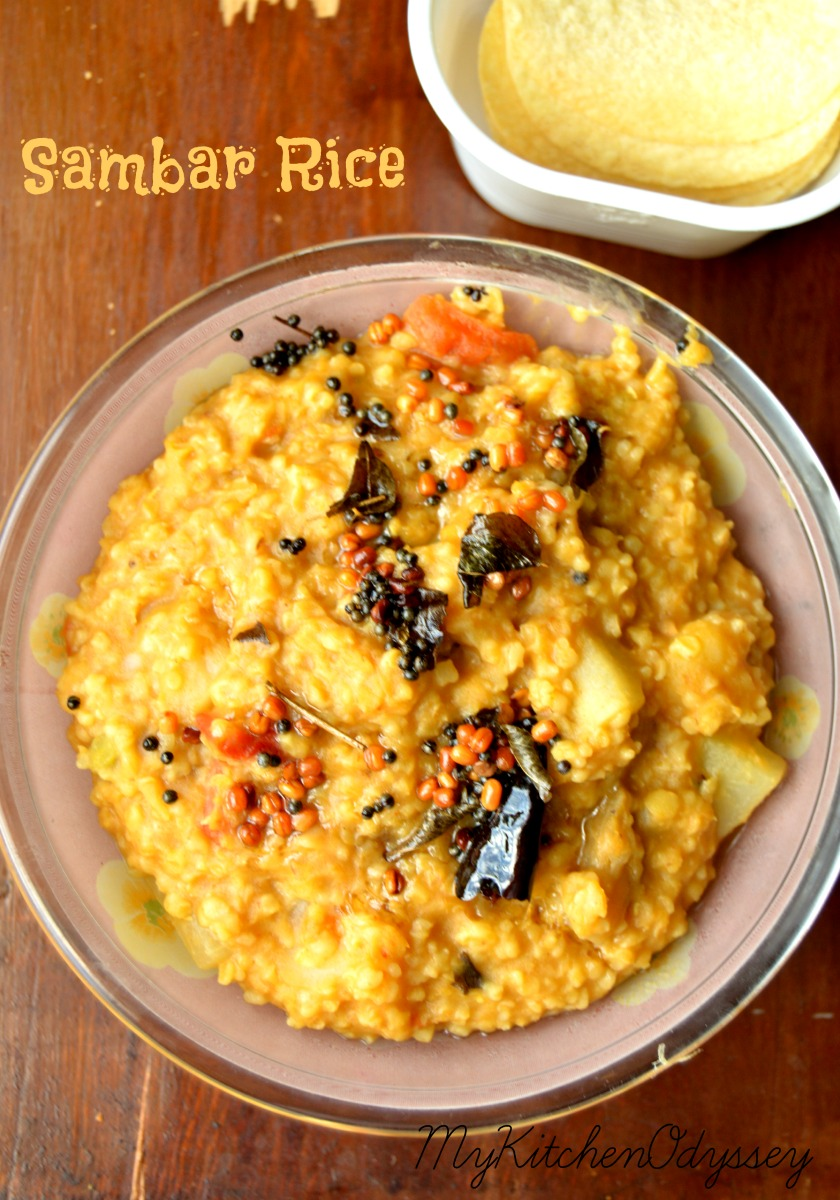rice: (71, 393, 734, 1029)
